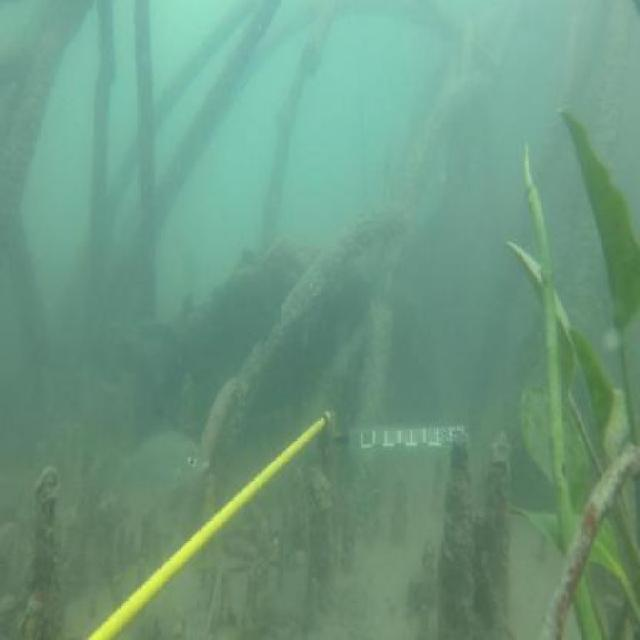gerres: (114, 424, 211, 505)
